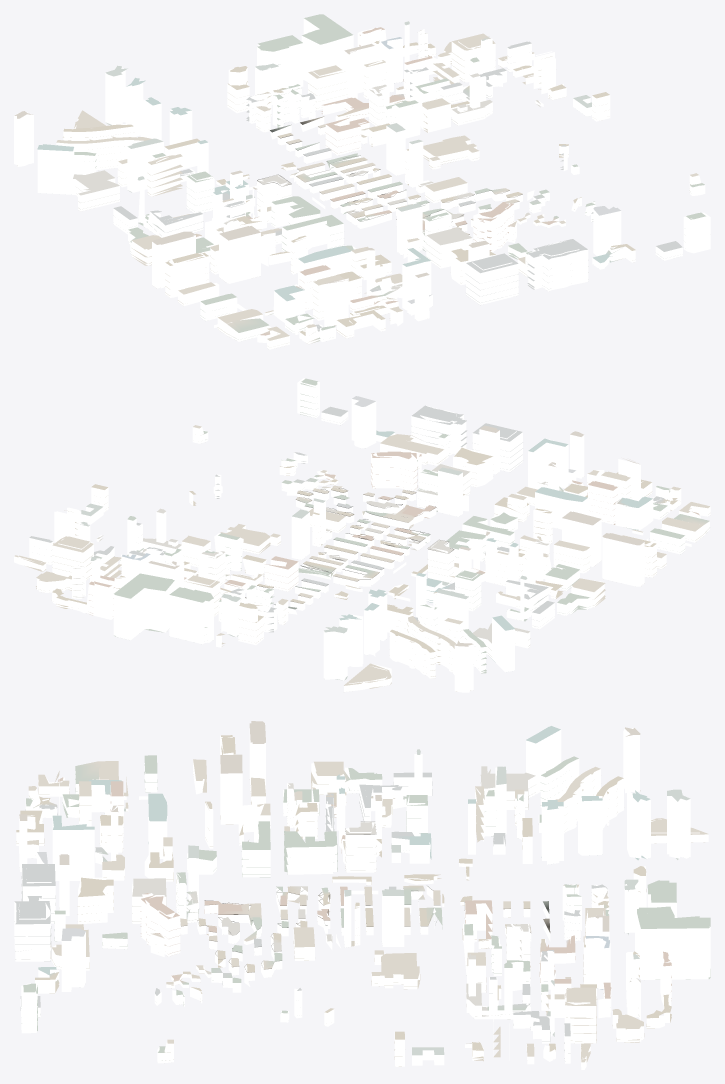
The model's file is buildings-6_1-coarse.glb.
3 views of the same model, one above another, from view 1: azimuth 30°, elevation 25°; view 2: azimuth 150°, elevation 25°; view 3: azimuth 270°, elevation 25° (orthographic). The views are drawn at different scales.
Parts seen in each view (by area): view 1: block_6_1_residential, block_6_1_office, block_6_1_roof, block_6_1_concrete; view 2: block_6_1_residential, block_6_1_office, block_6_1_roof, block_6_1_concrete; view 3: block_6_1_residential, block_6_1_roof, block_6_1_office, block_6_1_concrete.
Part boxes in pixels (x1=…): block_6_1_residential: x1=56, y1=28, x2=710, y2=349; block_6_1_office: x1=14, y1=18, x2=621, y2=326; block_6_1_roof: x1=14, y1=14, x2=705, y2=346; block_6_1_concrete: x1=257, y1=116, x2=522, y2=234; block_6_1_residential: x1=14, y1=378, x2=710, y2=691; block_6_1_office: x1=80, y1=399, x2=653, y2=692; block_6_1_roof: x1=14, y1=378, x2=709, y2=691; block_6_1_concrete: x1=245, y1=488, x2=454, y2=609; block_6_1_residential: x1=14, y1=736, x2=708, y2=1069; block_6_1_roof: x1=14, y1=721, x2=710, y2=1066; block_6_1_office: x1=19, y1=728, x2=710, y2=1065; block_6_1_concrete: x1=181, y1=821, x2=550, y2=972.
Size of the model in its own units: 676 by 67.21 by 670.
